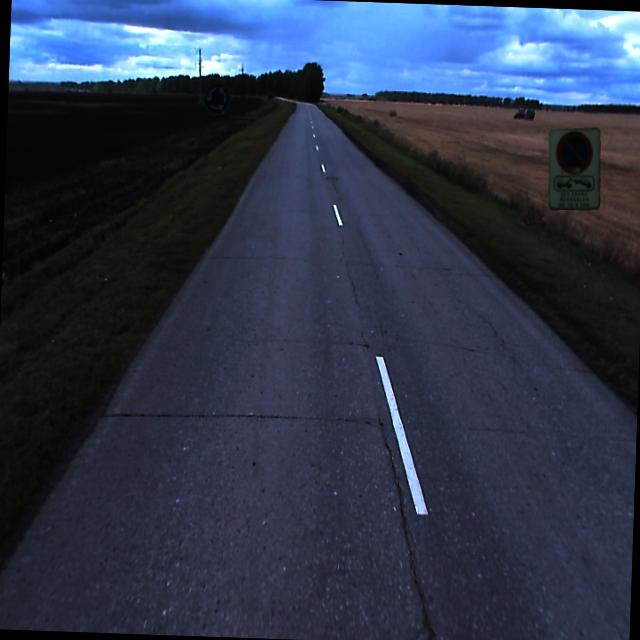road: (0, 103, 636, 640)
